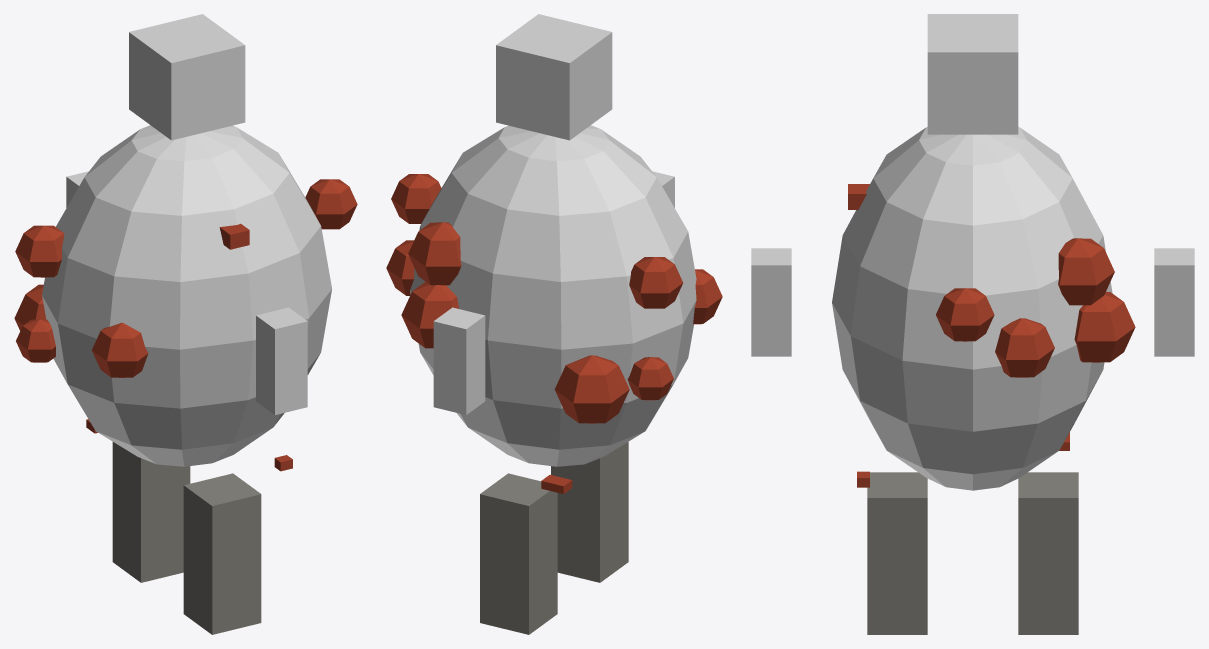
The model's file is zombie_bloater.glb.
3 renders of one model, left to right at view 1: azimuth 30°, elevation 25°; view 2: azimuth 150°, elevation 25°; view 3: azimuth 270°, elevation 25°, orthographic. The views are drawn at different scales.
Parts seen in each view (by area): view 1: zombie_bloater; view 2: zombie_bloater; view 3: zombie_bloater.
Boxes of the visible parts, x1,y1,x2,y2 form: zombie_bloater: [14, 14, 357, 634]; zombie_bloater: [386, 14, 722, 634]; zombie_bloater: [751, 14, 1194, 634].
Bounding box in the file's own units: 1.03 × 1.81 × 1.23.
